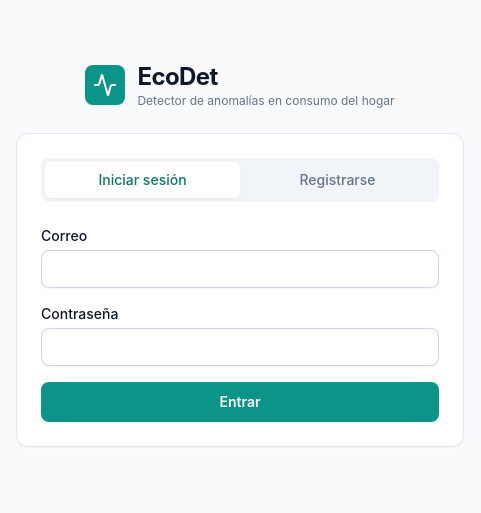
Flujo completo de HU-02 › abre en "Iniciar sesión" y permite pasar a "Registrarse"
The width and height of the screenshot is (481, 513).
Check: the field labelled "Nombre" is not shown
Click the tab "Registrarse".
click(338, 180)  # box [240,162,435,198]
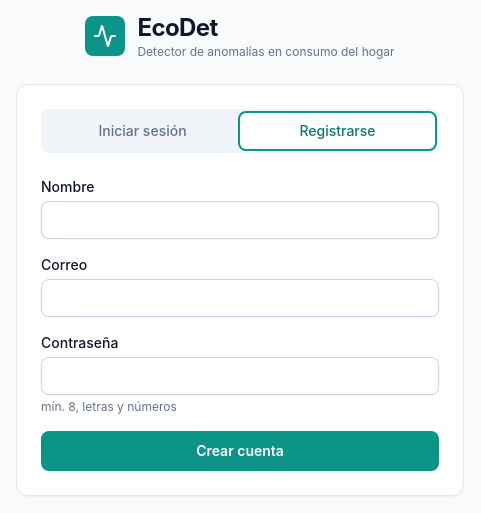
Check: the field labelled "Nombre" is shown, box [41,201,439,239]
